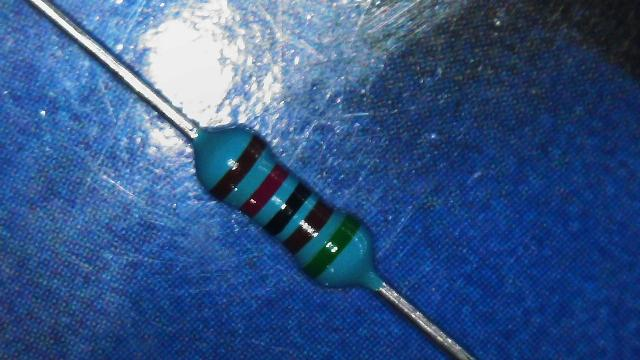black: (264, 182, 311, 235)
brown: (211, 135, 266, 200), (283, 199, 332, 252)
green: (303, 214, 360, 278)
red: (240, 163, 288, 216)
resistor: (190, 96, 382, 300)
